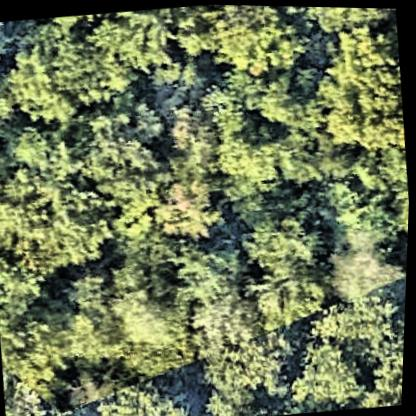tree-top: (6, 119, 122, 278), (56, 251, 200, 379), (202, 68, 323, 197), (312, 19, 410, 156), (3, 11, 111, 123), (234, 209, 333, 328), (80, 100, 182, 203), (0, 289, 83, 393), (194, 3, 310, 75), (327, 144, 412, 242), (149, 148, 226, 242), (204, 326, 295, 400), (294, 334, 378, 412), (316, 290, 407, 362), (87, 6, 179, 75), (169, 239, 246, 307), (187, 293, 265, 356), (91, 371, 194, 416), (332, 234, 404, 298), (366, 321, 407, 404)
